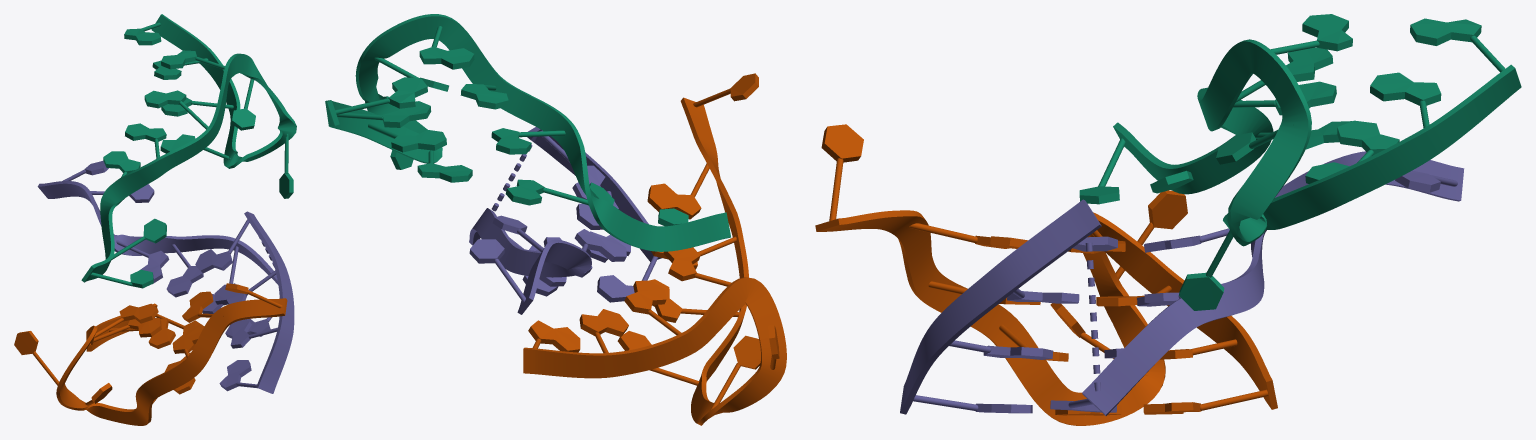
File: 7ECG.glb
3 views of the same model, side by side, from view 1: azimuth 30°, elevation 25°; view 2: azimuth 150°, elevation 25°; view 3: azimuth 270°, elevation 25° (orthographic). The views are drawn at different scales.
Bounding box in the file's own units: 35.8 × 34.08 × 42.82.
